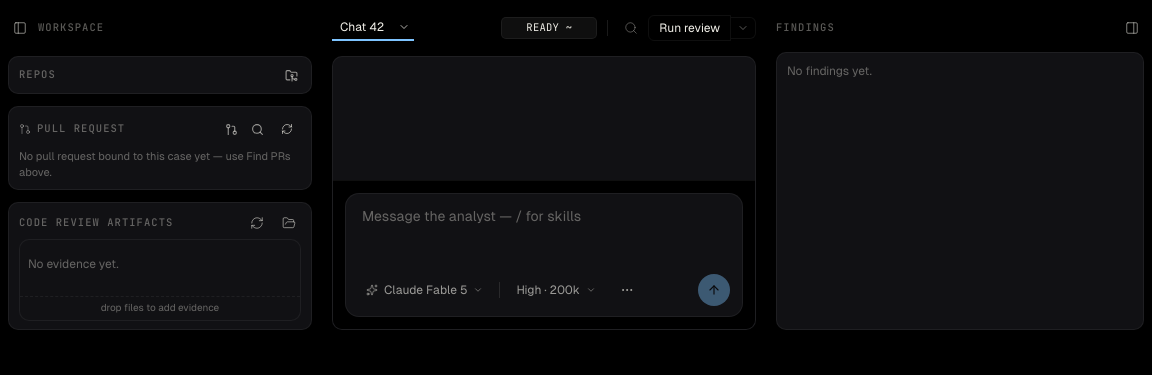
Test: CaseWorkspace case switching › does not leak case A’s in-flight PR-link identity into case B
This screenshot has width=1152, height=375.
Click the button named "Link PR" at (231, 129), box [221,119,241,139]
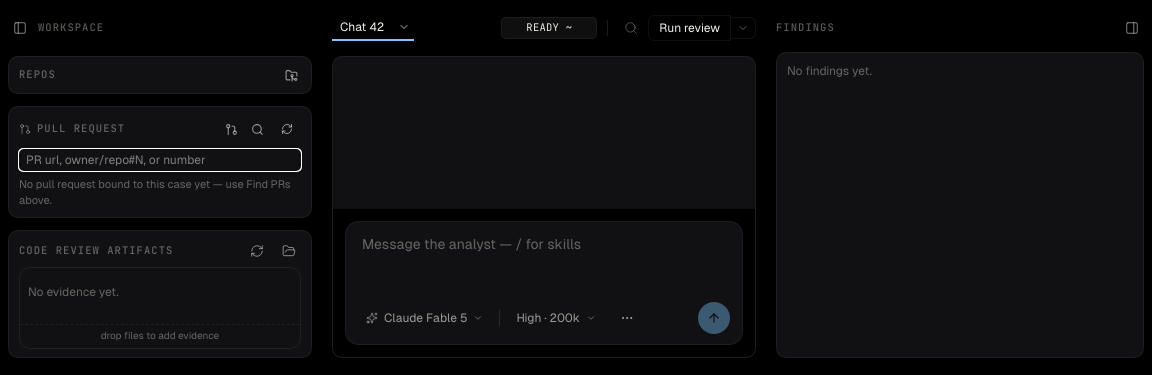
Type "acme/web#42" into the field with placeholder "PR url, owner/repo#N, or number" at (160, 160), box [19,149,301,171]
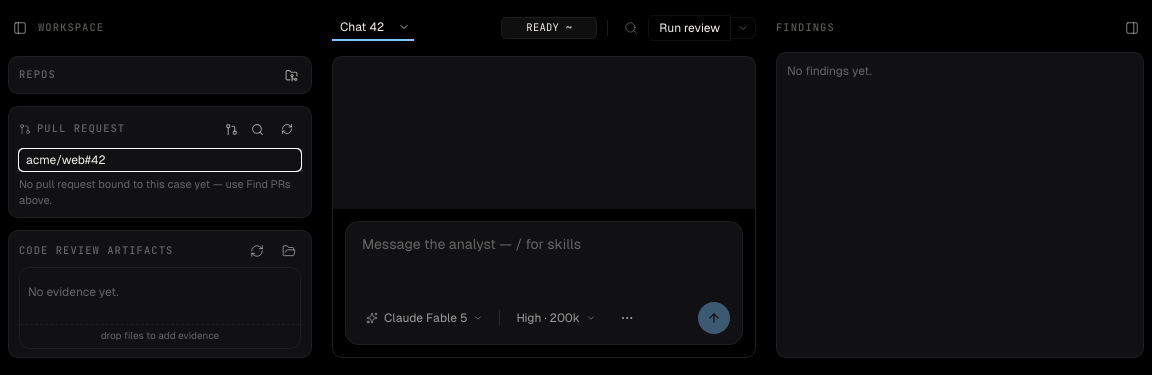
Submit the form from the field with placeholder "PR url, owner/repo#N, or number", box [19,149,301,171]
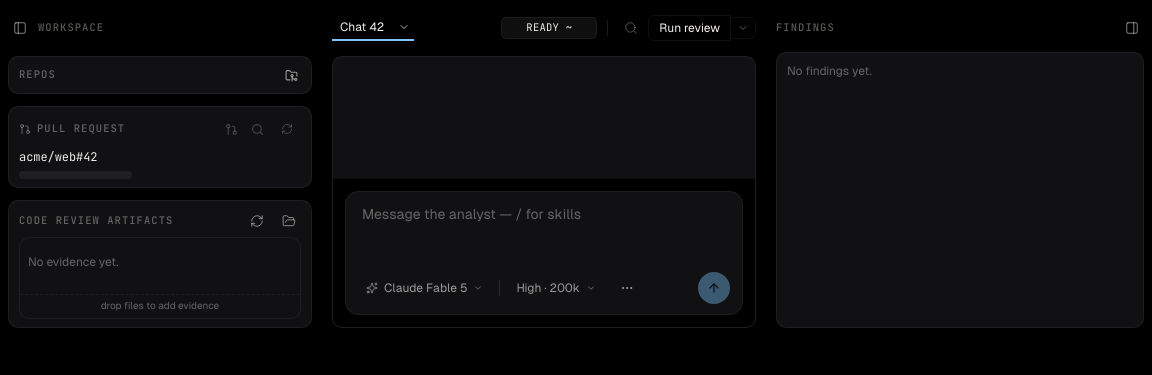
Now the text "acme/web#42" is shown, box [19,149,97,165]
